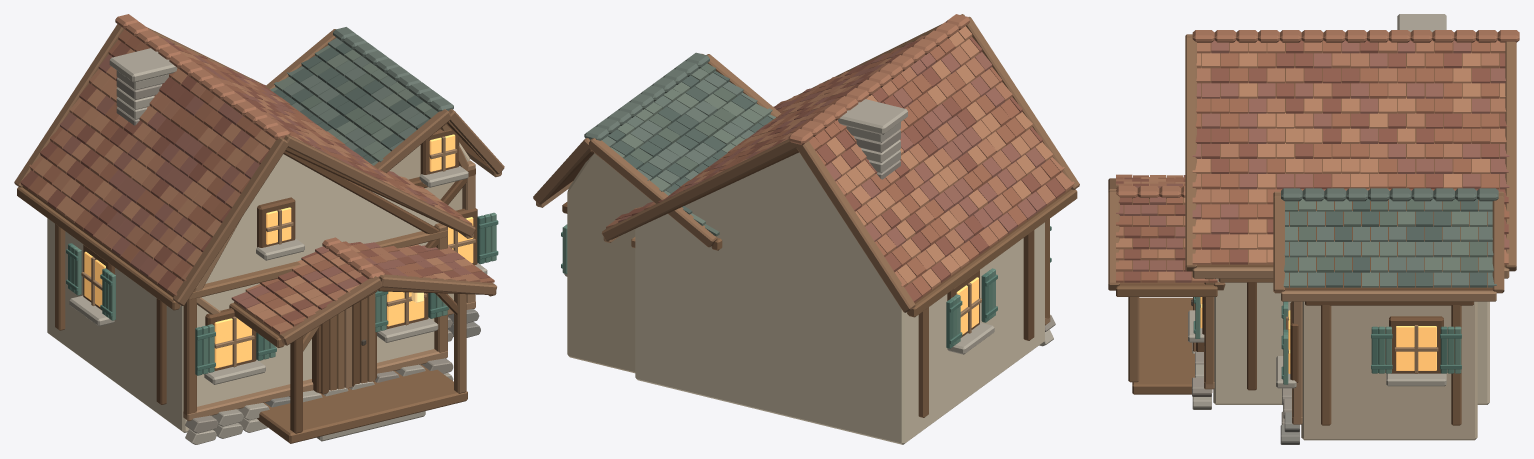
Rendered from split.glb.
3 renders of one model, left to right at view 1: azimuth 30°, elevation 25°; view 2: azimuth 150°, elevation 25°; view 3: azimuth 270°, elevation 25°, orthographic. The views are drawn at different scales.
Visible parts, largest first — view 1: split Warm limewash 03, split Fired clay 03, split Oiled oak 02, split Oak end grain 01, split Oiled oak 01, split Fired clay 05, split Fired clay 04, split Fired clay 02, split Fired clay 01, split Warm slate 03, split Slate green shingles 03, split Oiled oak 03 (+13 smaller); view 2: split Warm limewash 03, split Warm limewash 02, split Fired clay 03, split Oak end grain 01, split Fired clay 05, split Fired clay 04, split Fired clay 02, split Fired clay 01, split Slate green shingles 03, split Oiled oak 02, split Slate green shingles 01, split Oiled oak 01 (+8 smaller); view 3: split Warm limewash 02, split Fired clay 03, split Fired clay 02, split Fired clay 04, split Fired clay 01, split Fired clay 05, split Oiled oak 01, split Oak end grain 01, split Oiled oak 02, split Slate green shingles 03, split Warm limewash 03, split Slate green shingles 04 (+12 smaller).
Boxes of the visible parts, x1,y1,x2,y2 form: split Warm limewash 03: (47, 154, 438, 432); split Fired clay 03: (29, 14, 480, 334); split Oiled oak 02: (17, 187, 496, 443); split Oak end grain 01: (14, 24, 504, 345); split Oiled oak 01: (22, 121, 491, 433); split Fired clay 05: (34, 44, 473, 322); split Fired clay 04: (60, 37, 471, 309); split Fired clay 02: (28, 29, 494, 328); split Fired clay 01: (20, 42, 490, 323); split Warm slate 03: (69, 48, 487, 444); split Slate green shingles 03: (282, 27, 453, 151); split Oiled oak 03: (188, 124, 468, 393); split Warm limewash 03: (635, 152, 1044, 444); split Warm limewash 02: (567, 153, 652, 373); split Fired clay 03: (606, 14, 1074, 287); split Oak end grain 01: (533, 14, 1079, 312); split Fired clay 05: (633, 26, 1053, 289); split Fired clay 04: (618, 41, 1046, 247); split Fired clay 02: (644, 38, 1059, 296); split Fired clay 01: (615, 37, 1065, 302); split Slate green shingles 03: (584, 52, 757, 186); split Oiled oak 02: (711, 189, 1077, 417); split Slate green shingles 01: (608, 71, 772, 214); split Oiled oak 01: (546, 148, 1071, 340); split Warm limewash 02: (1301, 301, 1477, 440); split Fired clay 03: (1116, 30, 1519, 282); split Fired clay 02: (1116, 40, 1509, 282); split Fired clay 04: (1116, 40, 1509, 282); split Fired clay 01: (1116, 40, 1508, 282); split Fired clay 05: (1116, 52, 1505, 282); split Oiled oak 01: (1120, 41, 1505, 390); split Oak end grain 01: (1108, 34, 1516, 293); split Oiled oak 02: (1116, 285, 1461, 425); split Slate green shingles 03: (1281, 188, 1498, 287); split Warm limewash 03: (1213, 278, 1489, 404); split Slate green shingles 04: (1283, 198, 1493, 287).
Bounding box in the file's own units: 6.78 × 5.12 × 6.42.
